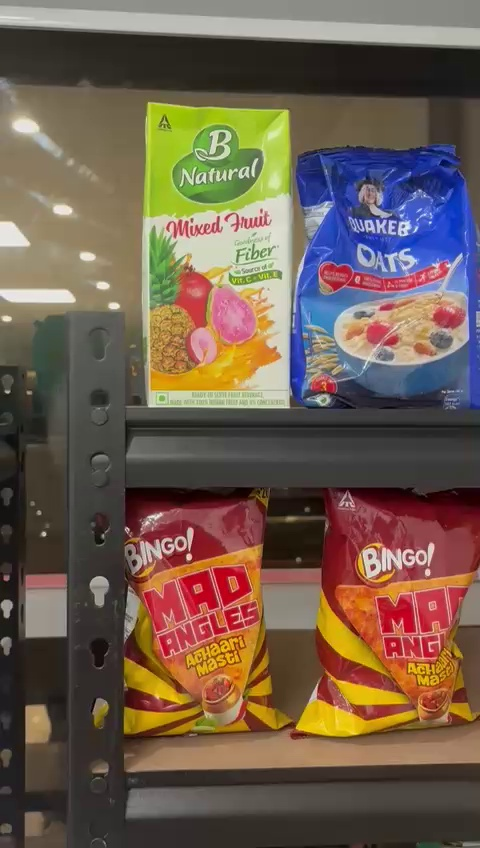Bingo Mad Angles: (320, 494, 480, 735), (119, 494, 274, 738)
Mixed Fruit: (149, 101, 289, 404)
Quaker Oats: (285, 146, 480, 405)
